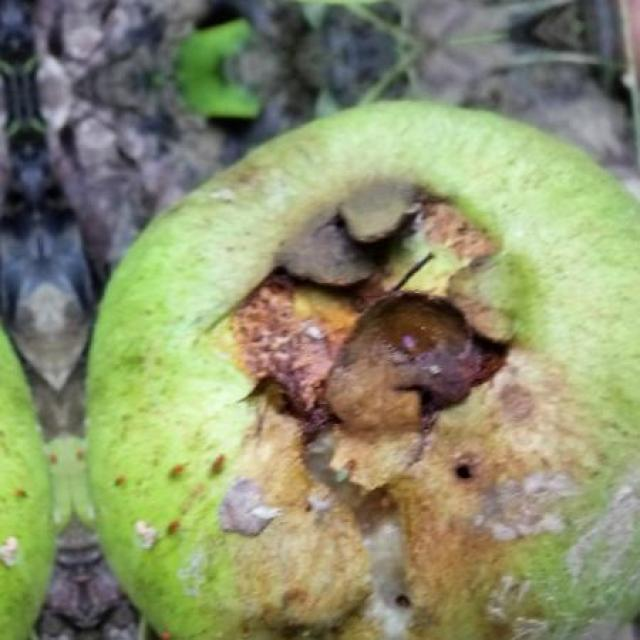Styler and Root: (86, 102, 640, 640)
